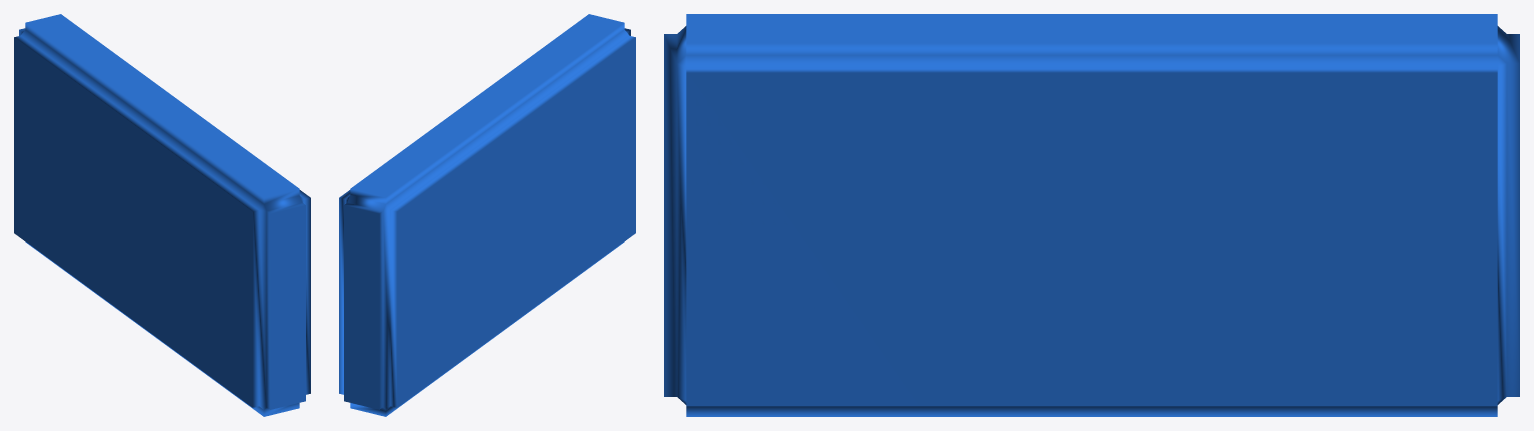
The model's file is hypercar_door_butterfly_l.glb.
3 renders of one model, left to right at view 1: azimuth 30°, elevation 25°; view 2: azimuth 150°, elevation 25°; view 3: azimuth 270°, elevation 25°, orthographic. The views are drawn at different scales.
Parts seen in each view (by area): view 1: Hypercar_Door_Butterfly_L; view 2: Hypercar_Door_Butterfly_L; view 3: Hypercar_Door_Butterfly_L.
Boxes of the visible parts, x1=… form: Hypercar_Door_Butterfly_L: x1=14, y1=14, x2=310, y2=416; Hypercar_Door_Butterfly_L: x1=339, y1=14, x2=635, y2=416; Hypercar_Door_Butterfly_L: x1=664, y1=14, x2=1519, y2=416.
Bounding box in the file's own units: 0.18 × 0.65 × 1.35.
